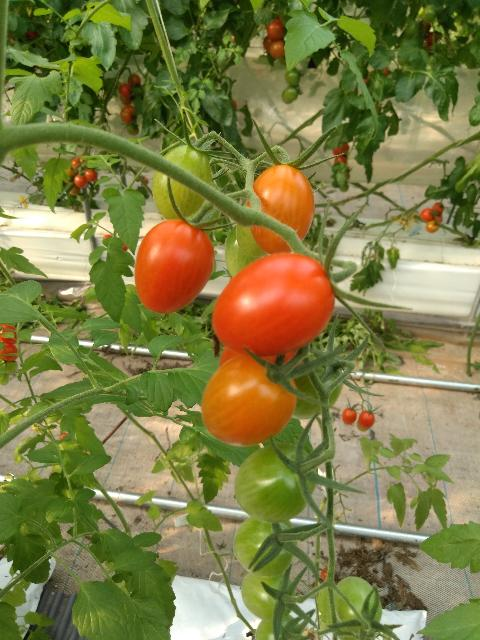l_fully_ripened: (212, 253, 335, 358), (134, 217, 215, 316)
l_green: (233, 443, 318, 523), (152, 146, 212, 219), (232, 515, 298, 578), (291, 353, 345, 420), (333, 576, 381, 635), (242, 571, 295, 621), (225, 225, 267, 278), (255, 614, 301, 640), (236, 223, 267, 257)
l_half_ripened: (201, 356, 298, 447), (246, 164, 315, 255)
